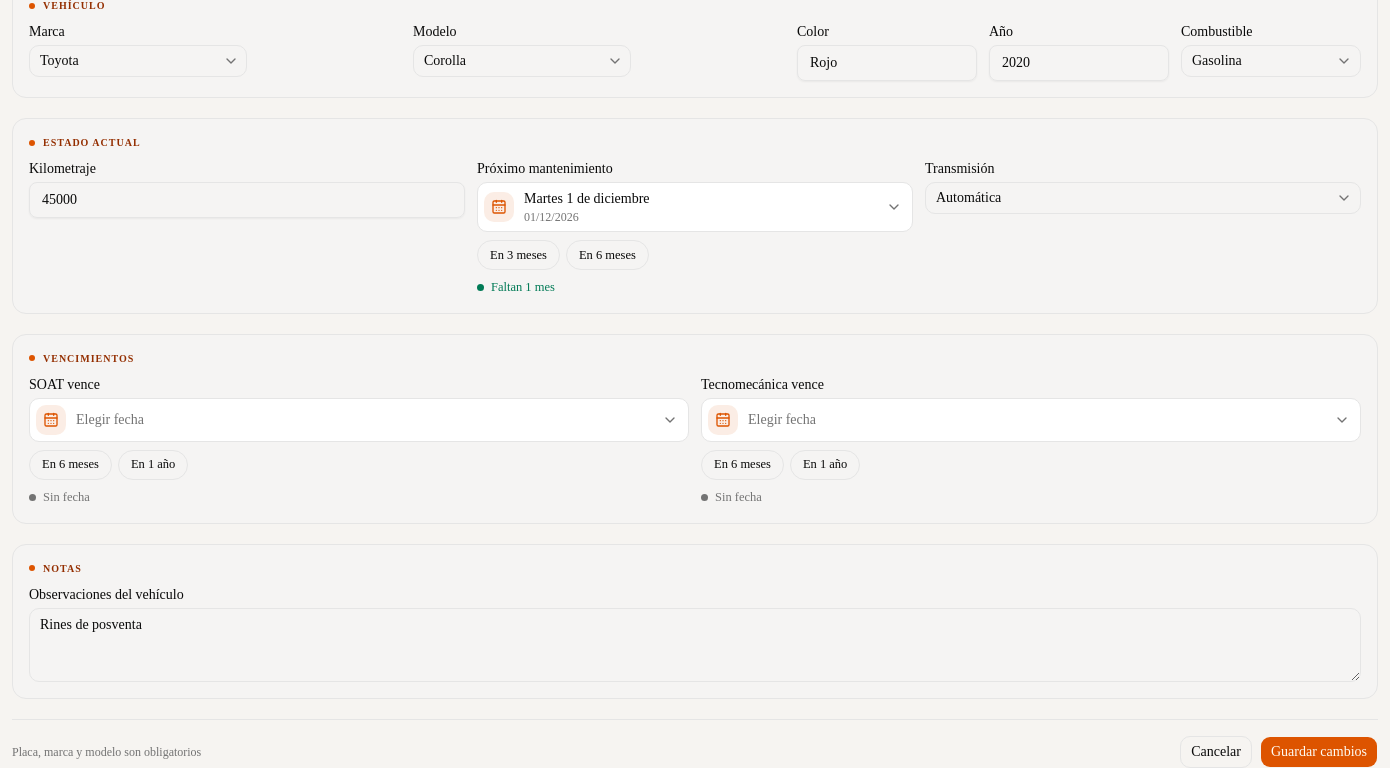
Test: EditarVehiculoForm › shows the error message when the action returns one
(page scrolled)
Step 1. Click the button "Guardar cambios" → {"x": 1319, "y": 752}, box 1260,736 -> 1378,767
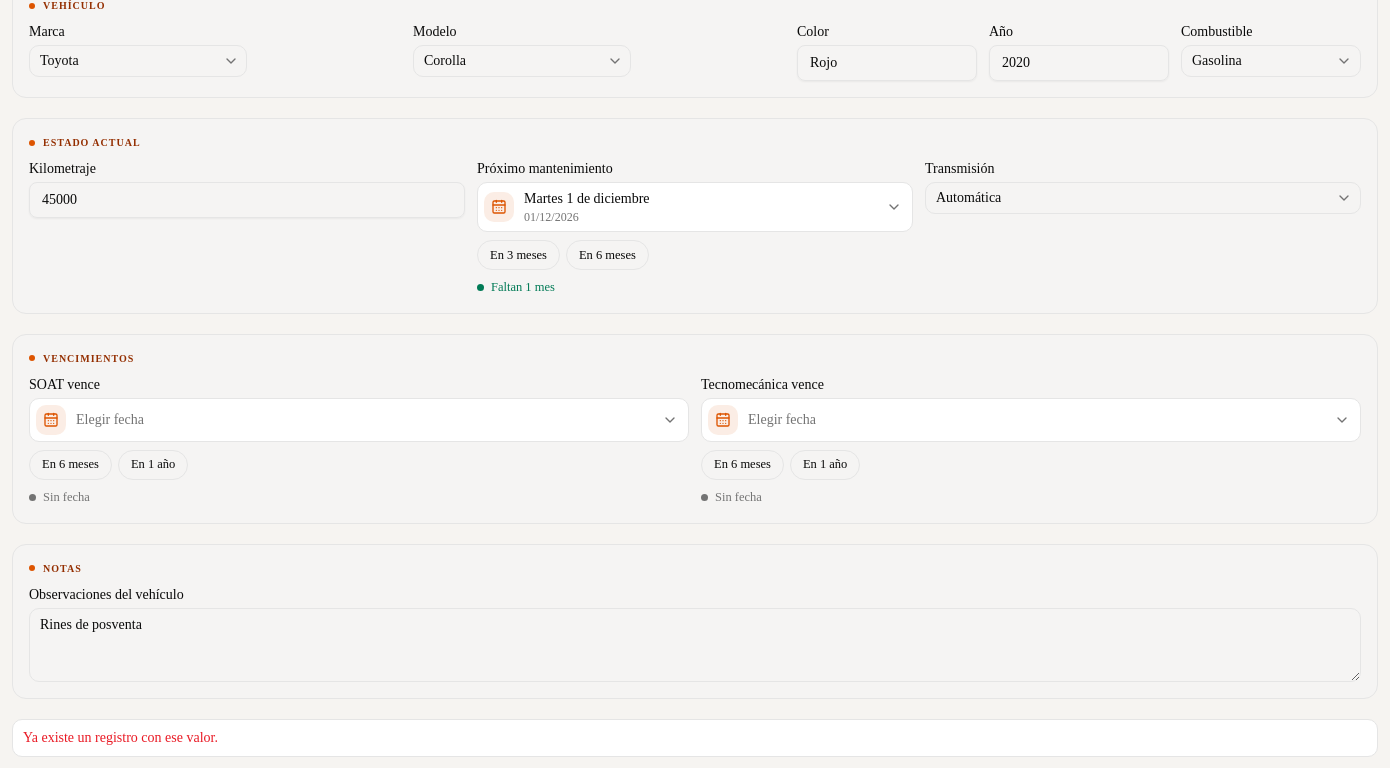
Result: the message reads "Ya existe un registro con ese valor." at 23,730 -> 218,744
